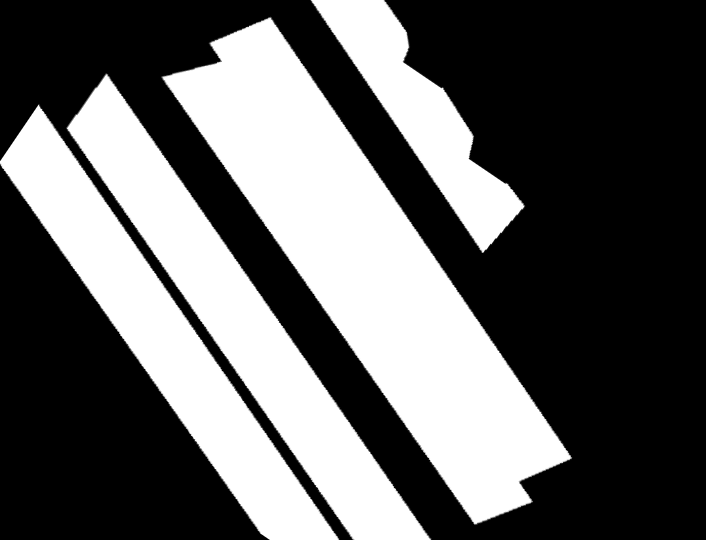parkingspot: (162, 17, 572, 524), (67, 74, 431, 540), (0, 105, 339, 540), (311, 0, 524, 253)
